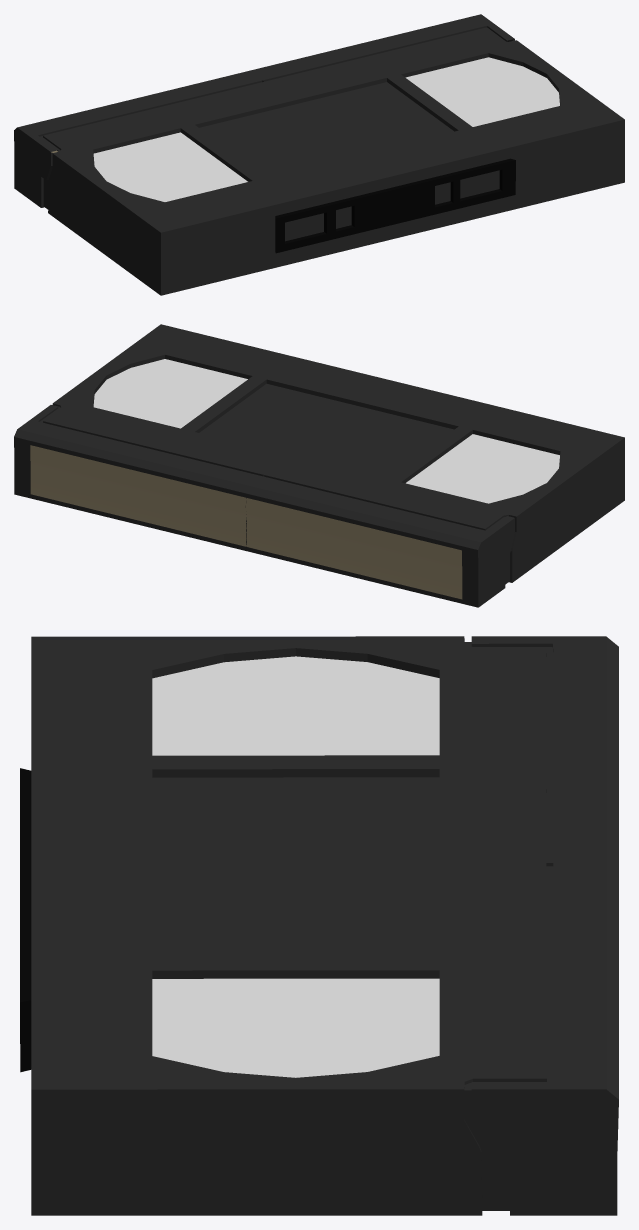
Rendered from VHS.fbx.
The picture shows the model from 3 angles, top to bottom: view 1: azimuth 30°, elevation 25°; view 2: azimuth 150°, elevation 25°; view 3: azimuth 270°, elevation 25°; orthographic projection. The views are drawn at different scales.
Parts seen in each view (by area): view 1: Cube.004; view 2: Cube.004; view 3: Cube.004.
Part boxes in pixels (x1=…): Cube.004: x1=14, y1=14, x2=624, y2=295; Cube.004: x1=14, y1=324, x2=624, y2=607; Cube.004: x1=20, y1=636, x2=618, y2=1215.
Size of the model in its own units: 66.14 by 8.6 by 36.98.
